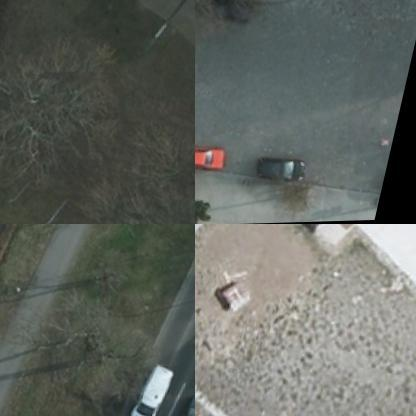car: (250, 154, 310, 196), (129, 362, 175, 415), (204, 0, 260, 37), (195, 142, 228, 181)
